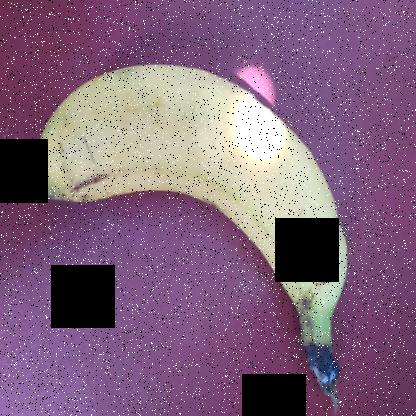freshripe: (33, 47, 347, 312)
